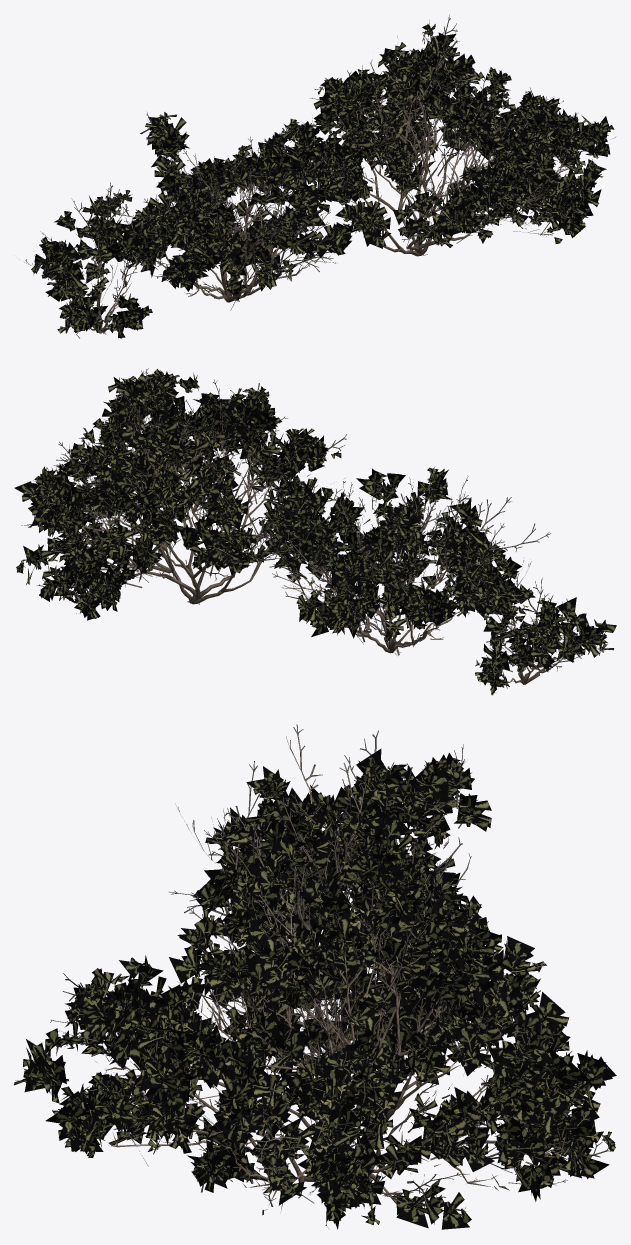
File: searsia_burchellii.glb
3 renders of one model, top to bottom at view 1: azimuth 30°, elevation 25°; view 2: azimuth 150°, elevation 25°; view 3: azimuth 270°, elevation 25°, orthographic. The views are drawn at different scales.
Visible parts, largest first — view 1: searsia_burchellii_large_LOD0, searsia_burchellii_medium_LOD0, searsia_burchellii_small_LOD0; view 2: searsia_burchellii_large_LOD0, searsia_burchellii_medium_LOD0, searsia_burchellii_small_LOD0; view 3: searsia_burchellii_large_LOD0, searsia_burchellii_medium_LOD0, searsia_burchellii_small_LOD0.
Part boxes in pixels (<box>): searsia_burchellii_large_LOD0: <box>281,14,615,256</box>; searsia_burchellii_medium_LOD0: <box>102,112,353,310</box>; searsia_burchellii_small_LOD0: <box>24,182,152,338</box>; searsia_burchellii_large_LOD0: <box>14,368,348,620</box>; searsia_burchellii_medium_LOD0: <box>269,467,550,655</box>; searsia_burchellii_small_LOD0: <box>456,546,616,695</box>; searsia_burchellii_large_LOD0: <box>14,871,616,1229</box>; searsia_burchellii_medium_LOD0: <box>169,724,491,1072</box>; searsia_burchellii_small_LOD0: <box>241,730,471,942</box>.
Bounding box in the file's own units: 8.42 × 3.41 × 5.13.
Materials: 3 (3 with a texture image).
